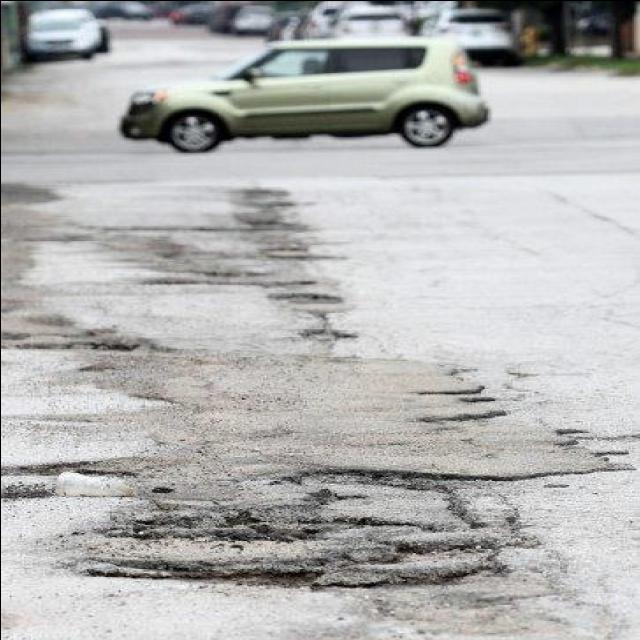jalan retak: (354, 583, 640, 640), (434, 344, 594, 407), (0, 212, 316, 242), (70, 358, 202, 412), (532, 178, 640, 234), (584, 270, 640, 335)
lubang: (267, 429, 640, 538), (63, 528, 561, 596), (385, 176, 551, 260), (298, 456, 586, 499), (114, 502, 380, 548), (400, 378, 570, 430), (0, 328, 176, 370), (540, 414, 640, 485), (0, 450, 135, 502), (137, 260, 331, 294), (3, 288, 134, 336), (146, 222, 262, 272), (228, 183, 323, 241), (2, 170, 69, 215), (258, 234, 346, 266), (260, 290, 378, 312), (282, 326, 364, 348)
